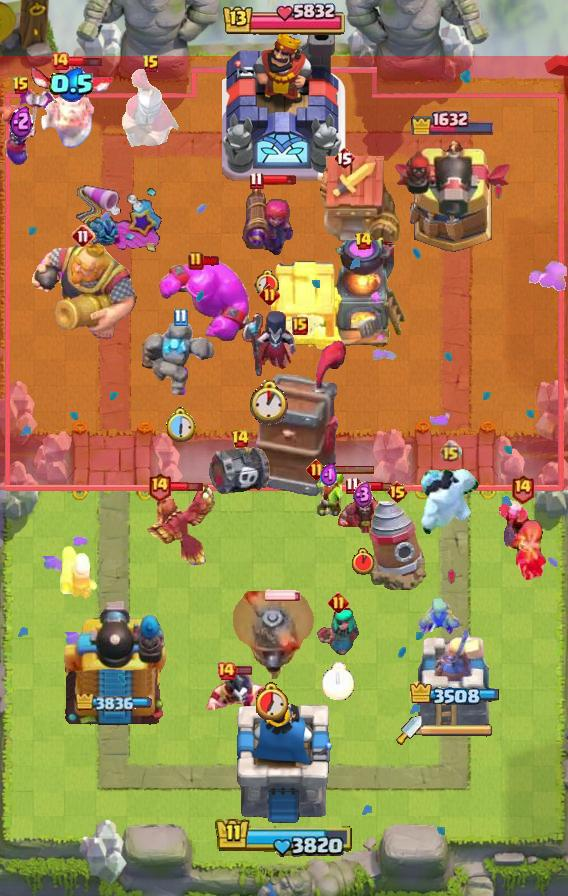bar: (414, 623, 492, 731)
bomb: (265, 258, 345, 352)
bowler: (337, 489, 389, 537)
clock: (215, 818, 353, 859), (221, 0, 347, 40)
clone: (157, 257, 253, 343)
dark-prince: (225, 591, 319, 679)
dart-goblin: (253, 339, 347, 499)
electro-spirit: (49, 67, 95, 101), (10, 103, 33, 138), (353, 481, 373, 509), (320, 462, 338, 490)
elixir: (248, 380, 291, 425), (321, 662, 354, 700), (255, 682, 288, 720), (164, 407, 196, 443), (255, 269, 281, 297), (352, 548, 374, 575)
emote: (324, 465, 376, 476), (264, 589, 302, 601), (68, 55, 103, 68), (169, 480, 204, 493), (261, 174, 297, 186), (357, 480, 392, 492), (202, 255, 221, 267), (234, 665, 253, 676)
giant-skeleton: (27, 240, 140, 344)
golden-knight: (139, 484, 215, 566)
hunter: (319, 240, 407, 350)
king-tower: (222, 31, 346, 181), (235, 703, 333, 826)
king-tower-bar: (422, 723, 494, 737)
lumberjack: (202, 669, 278, 723)
magic-archer: (364, 496, 430, 594)
mega-minion: (241, 183, 293, 255)
mini-pekka: (28, 66, 116, 148)
rage: (419, 468, 481, 536)
rascal-boy: (497, 498, 547, 584), (240, 309, 298, 379)
royal-recruit-evolution: (209, 441, 271, 497)
selected: (407, 681, 499, 707), (410, 109, 496, 136), (75, 693, 153, 710)
sparky: (314, 155, 400, 253)
tesla-evolution: (0, 88, 56, 168)
text: (147, 471, 172, 502), (509, 473, 534, 504), (71, 224, 95, 248), (386, 480, 409, 504), (438, 440, 461, 463), (333, 146, 355, 170), (259, 283, 280, 305), (305, 460, 327, 481), (327, 591, 348, 613), (50, 51, 70, 71), (354, 231, 374, 251), (216, 661, 236, 681), (230, 429, 249, 449), (142, 54, 160, 74), (12, 76, 30, 96), (188, 251, 204, 271), (292, 317, 308, 335), (172, 309, 187, 328), (344, 477, 359, 496), (248, 171, 263, 189)
tombstone: (58, 543, 100, 601)
tower-bar: (58, 595, 170, 731), (392, 138, 514, 256)
valkyrie-evolution: (142, 323, 218, 401)
wall-breaker-evolution: (121, 69, 181, 149)
witch: (315, 608, 361, 658)
zap: (417, 594, 461, 636), (314, 467, 344, 517)
